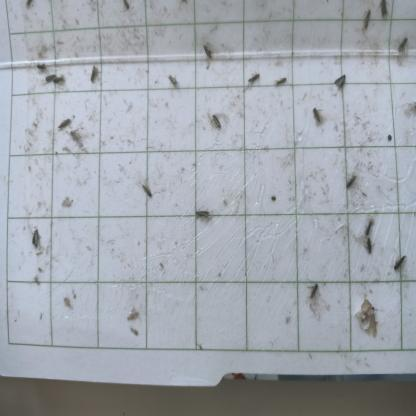prays_oleae: (354, 294, 384, 342), (182, 197, 212, 231), (135, 170, 160, 206), (204, 110, 225, 144), (390, 248, 408, 282), (244, 63, 262, 94), (341, 166, 359, 197), (164, 62, 180, 96), (358, 6, 375, 36), (332, 68, 350, 96), (306, 104, 325, 130), (394, 35, 410, 64), (272, 68, 292, 90), (54, 112, 74, 132), (198, 44, 216, 66), (306, 276, 320, 304), (30, 226, 46, 250), (379, 0, 393, 26), (124, 303, 140, 325), (87, 58, 99, 86), (364, 212, 376, 238), (55, 70, 66, 92), (360, 239, 376, 253), (42, 77, 58, 85)
